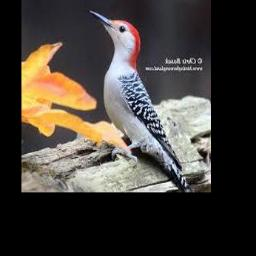Woodpecker: (90, 9, 194, 192)
